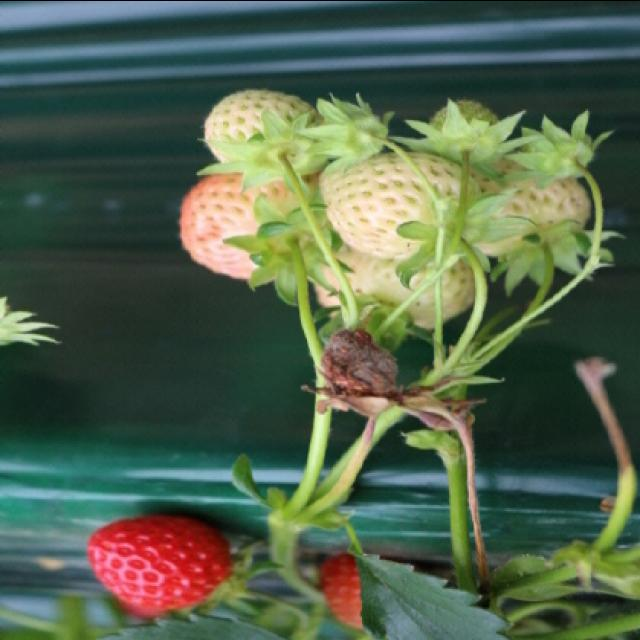Gray Mold: (300, 324, 433, 436)
